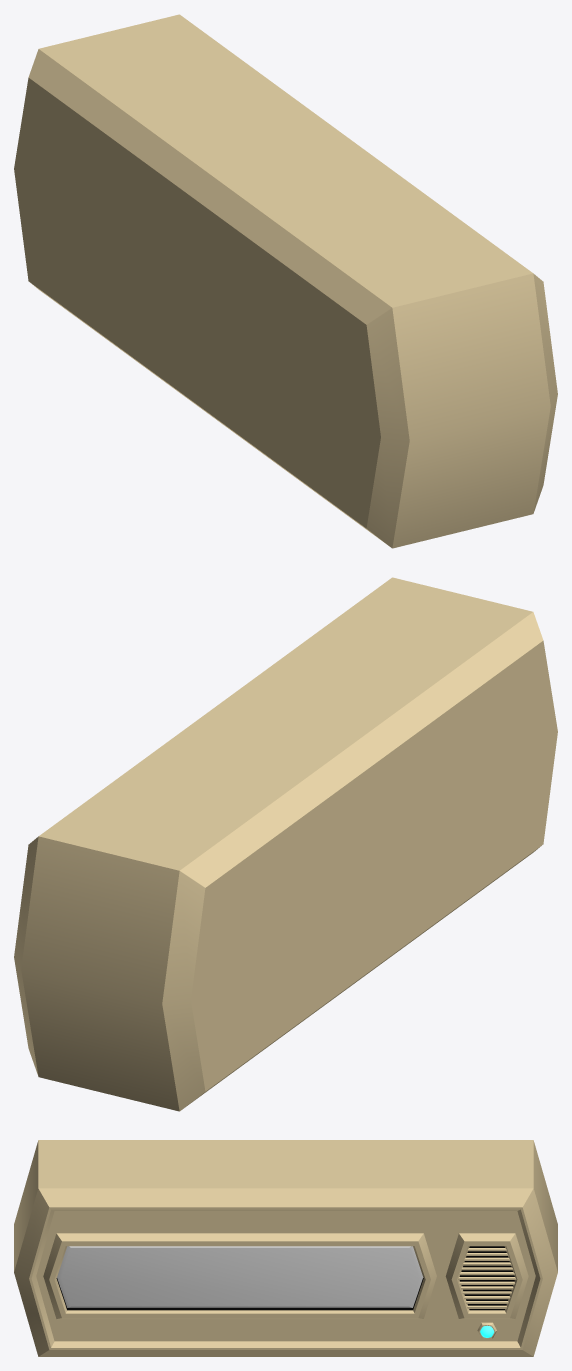
File: WarningSign.fbx
3 renders of one model, top to bottom at view 1: azimuth 30°, elevation 25°; view 2: azimuth 150°, elevation 25°; view 3: azimuth 270°, elevation 25°, orthographic. The views are drawn at different scales.
Parts seen in each view (by area): view 1: Cube; view 2: Cube; view 3: Cube, Cube.002.
Boxes of the visible parts, x1=… form: Cube: x1=14, y1=14, x2=557, y2=548; Cube: x1=14, y1=577, x2=557, y2=1111; Cube: x1=14, y1=1140, x2=557, y2=1356; Cube.002: x1=57, y1=1246, x2=423, y2=1307.
Bounding box in the file's own units: 216 × 277 × 809.
